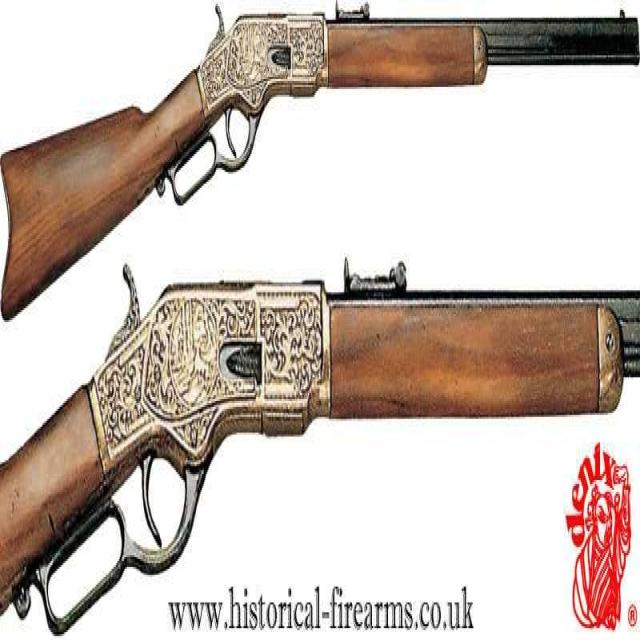heavyweapon: (1, 250, 640, 631), (1, 5, 640, 319)
